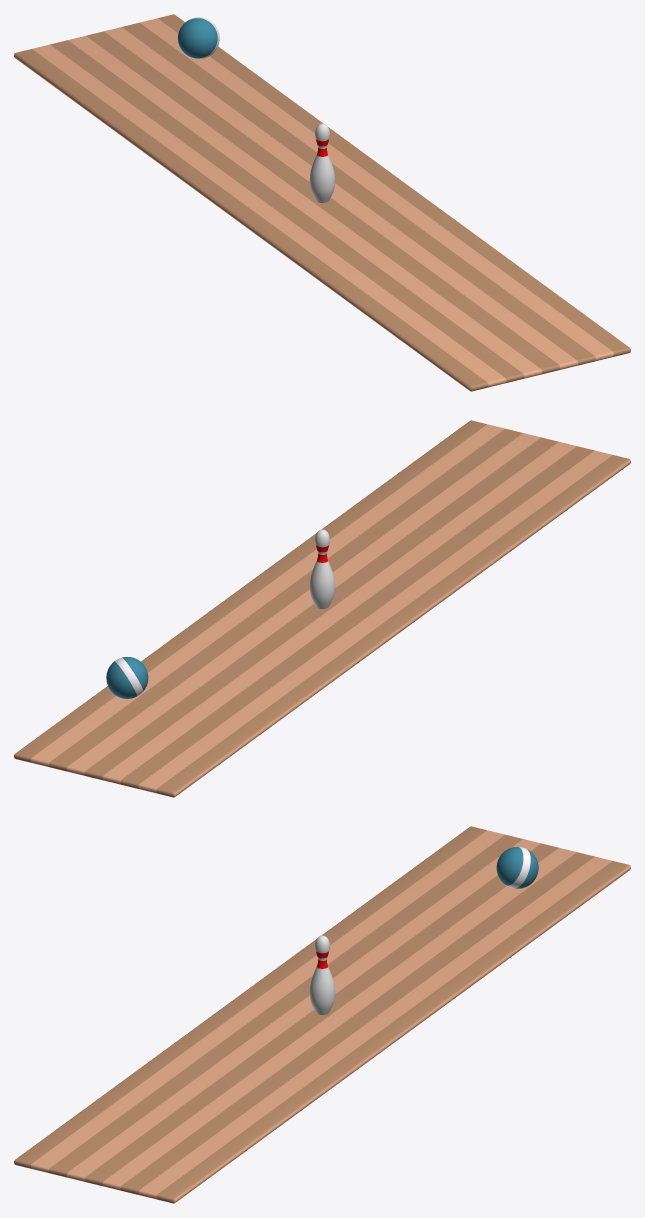
File: bowling.glb
3 renders of one model, top to bottom at view 1: azimuth 30°, elevation 25°; view 2: azimuth 150°, elevation 25°; view 3: azimuth 330°, elevation 25°, orthographic.
Parts seen in each view (by area): view 1: Stage, Ball, Pin; view 2: Stage, Ball, Pin; view 3: Stage, Ball, Pin.
Boxes of the visible parts, left/top/right/bottom form: Stage: left=14, top=14, right=630, bottom=391; Ball: left=177, top=17, right=219, bottom=59; Pin: left=309, top=123, right=335, bottom=202; Stage: left=14, top=420, right=630, bottom=797; Ball: left=106, top=657, right=148, bottom=698; Pin: left=309, top=529, right=335, bottom=608; Stage: left=14, top=826, right=630, bottom=1203; Ball: left=496, top=847, right=538, bottom=888; Pin: left=309, top=935, right=335, bottom=1014.
Bounding box in the file's own units: 1.02 × 0.4908 × 4.98.
